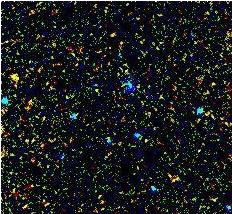star: (0, 61, 29, 91)
